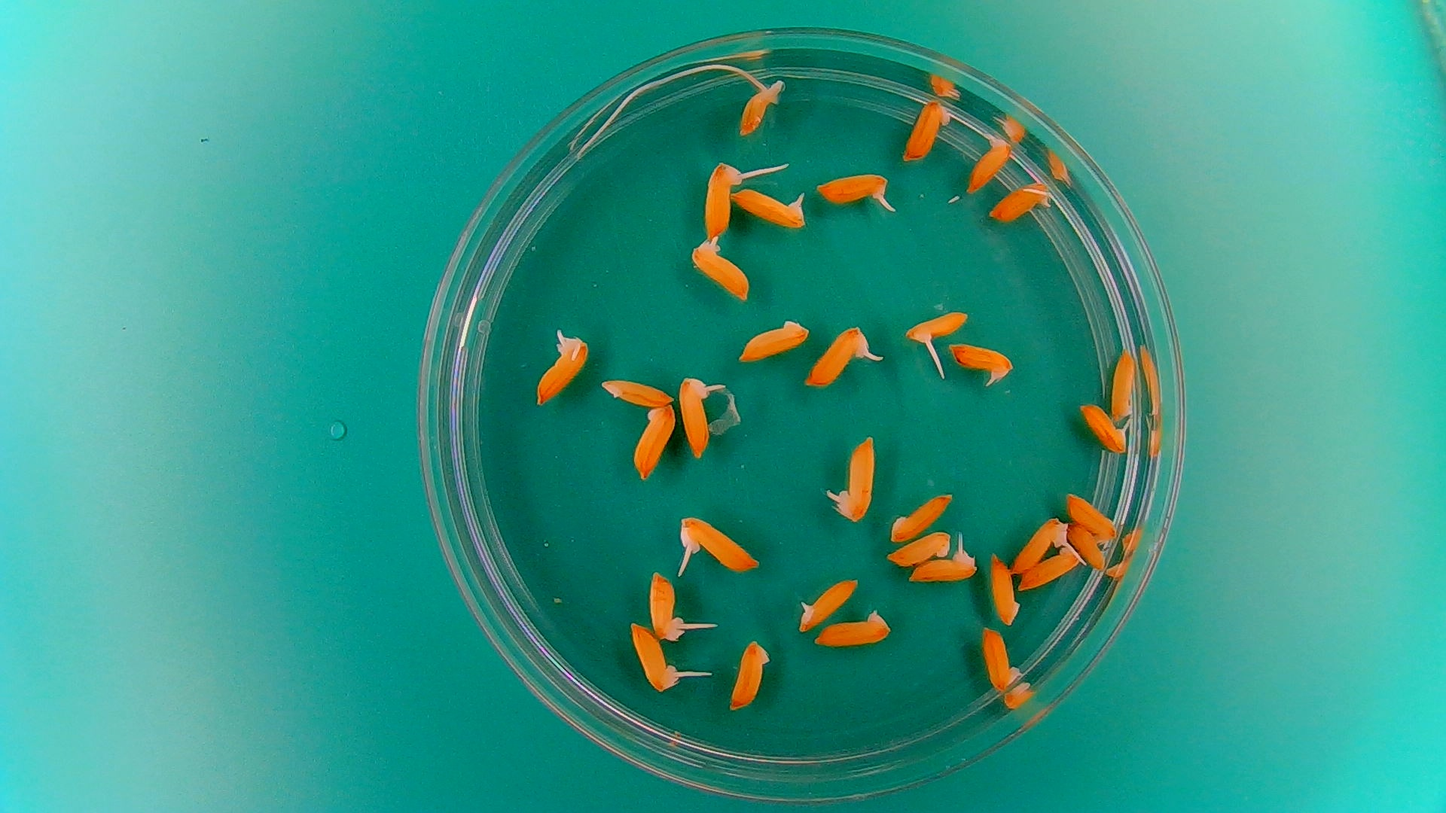no: (628, 402, 679, 483), (735, 315, 813, 363), (727, 635, 773, 714), (888, 491, 953, 543), (901, 96, 953, 161), (1017, 544, 1086, 592), (1063, 489, 1121, 543), (979, 624, 1023, 693), (596, 373, 676, 410), (811, 611, 886, 650), (883, 528, 954, 569), (987, 549, 1021, 627), (1109, 343, 1137, 420), (1066, 522, 1106, 572)
yes: (689, 235, 753, 303), (681, 519, 760, 571), (795, 574, 862, 635), (534, 335, 589, 408), (802, 327, 872, 384), (1008, 513, 1069, 574), (834, 431, 875, 520), (700, 161, 746, 240), (734, 72, 783, 139), (728, 188, 802, 231), (987, 177, 1054, 223), (1076, 400, 1131, 455), (677, 380, 714, 460), (647, 571, 688, 641), (905, 546, 974, 586), (813, 171, 891, 206), (633, 626, 674, 692), (966, 133, 1009, 195), (947, 340, 1014, 376), (906, 310, 968, 346)
